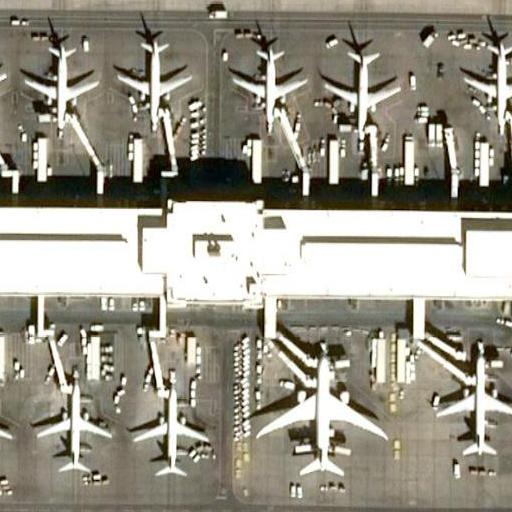Aircraft: (255, 345, 393, 483), (434, 339, 512, 461), (318, 32, 402, 134), (227, 31, 311, 133), (112, 29, 193, 132), (20, 35, 103, 134), (34, 377, 114, 476), (129, 382, 210, 475), (459, 33, 512, 127), (0, 384, 16, 478), (0, 27, 11, 135)
